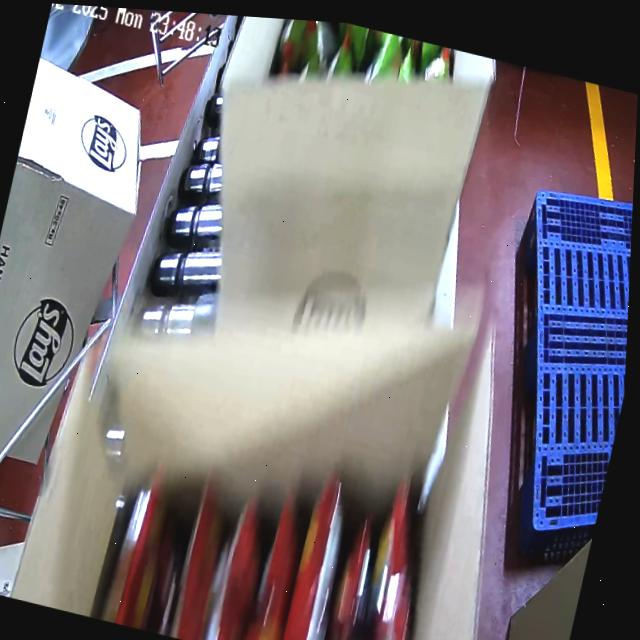MASALA: (101, 452, 438, 640)
YOGURT_HERB: (274, 19, 458, 111)
